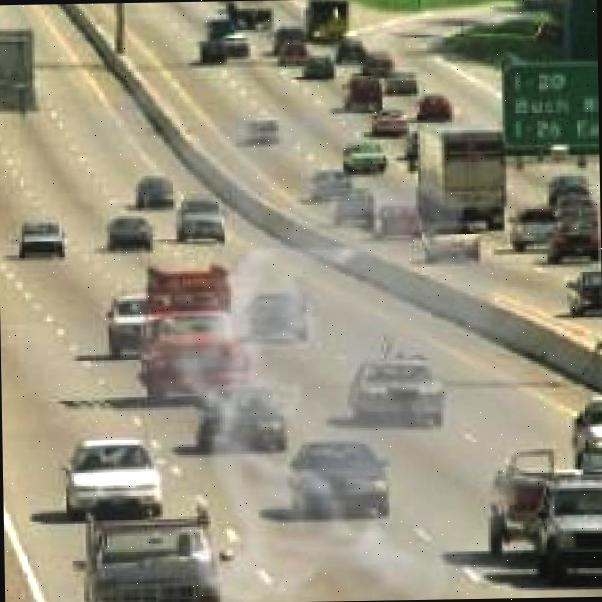smoke: (19, 59, 596, 602)
